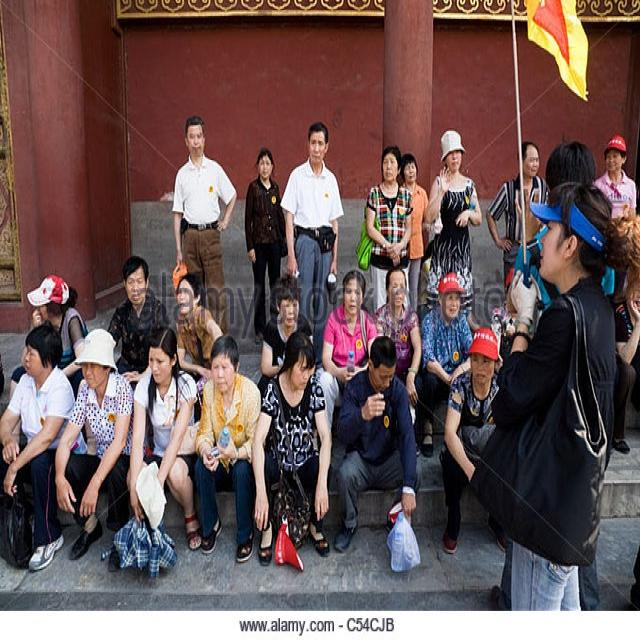body: (479, 180, 640, 611), (490, 138, 610, 611), (328, 332, 421, 576), (249, 329, 335, 570), (0, 320, 80, 573), (51, 323, 133, 563), (125, 324, 204, 553), (440, 324, 513, 554), (191, 330, 262, 563), (278, 118, 347, 345), (170, 113, 238, 339), (484, 138, 552, 308), (425, 130, 483, 318), (418, 269, 474, 461), (354, 143, 415, 314), (318, 268, 380, 435), (372, 264, 423, 456), (242, 144, 290, 346), (105, 252, 171, 391), (25, 272, 91, 403), (256, 272, 315, 406), (174, 271, 225, 426), (395, 151, 429, 314), (612, 262, 640, 455), (590, 134, 638, 222), (490, 274, 520, 362)
